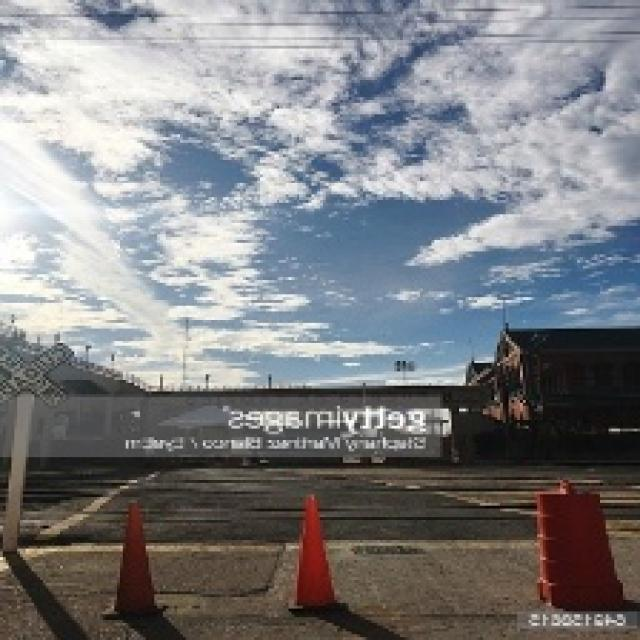cone: (533, 476, 628, 614), (286, 491, 346, 617), (105, 498, 166, 620)
